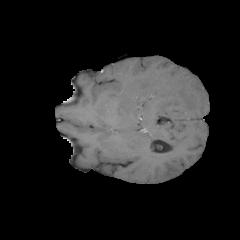glioma: (107, 66, 205, 128)
